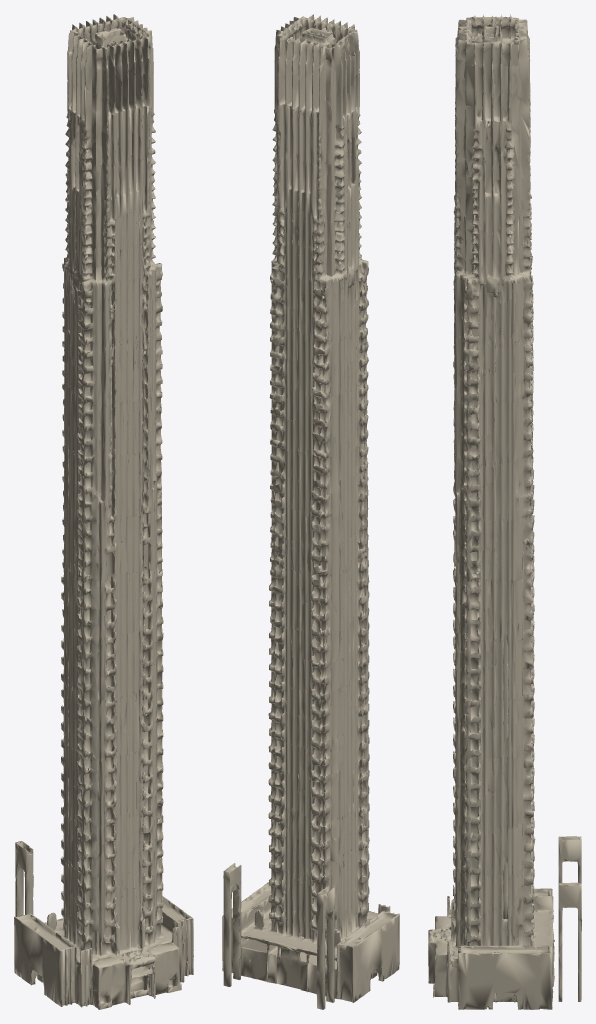
File: vida-residence-downtown.glb
The picture shows the model from 3 angles, left to right: view 1: azimuth 30°, elevation 25°; view 2: azimuth 150°, elevation 25°; view 3: azimuth 270°, elevation 25°; orthographic projection.
Parts seen in each view (by area): view 1: Mesh_0; view 2: Mesh_0; view 3: Mesh_0.
Boxes of the visible parts, x1=… form: Mesh_0: x1=14, y1=14, x2=193, y2=1009; Mesh_0: x1=222, y1=14, x2=399, y2=1009; Mesh_0: x1=428, y1=14, x2=581, y2=1009.
Size of the model in its own units: 35 by 238 by 35.
